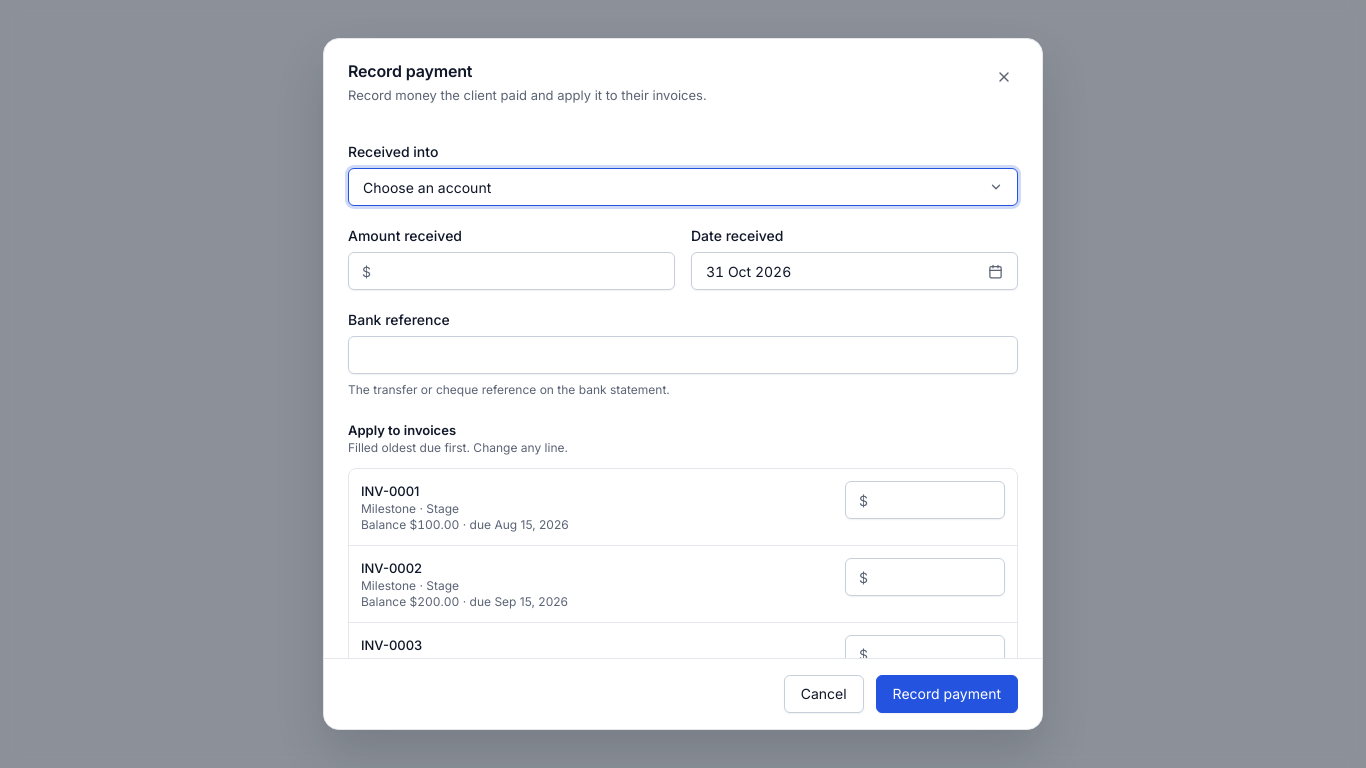
Test: RecordPaymentDialog — a Dialog that applies a receipt oldest due first › lists invoices oldest due first and prefills from the amount received
Type "250" into the field labelled "Amount received".
click(512, 271); type("250")  # box [348,252,675,290]
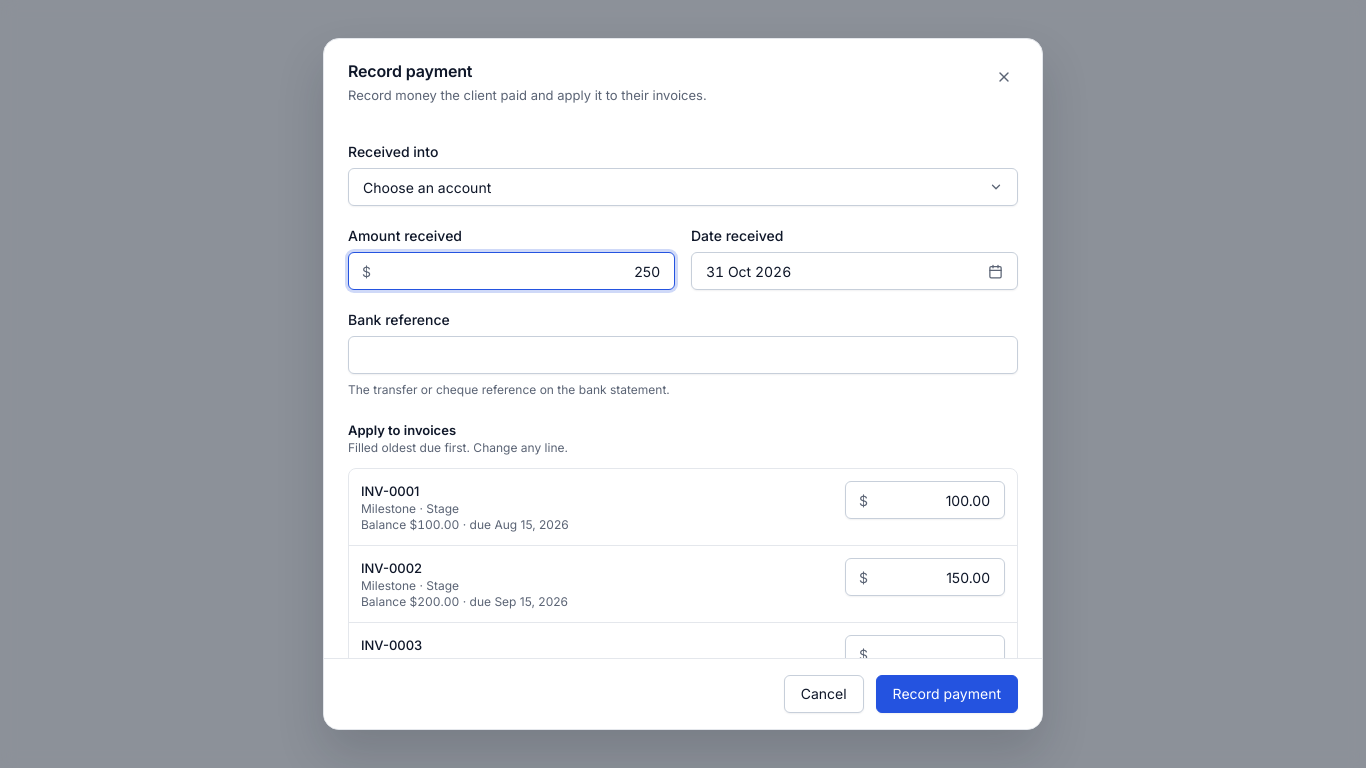
Now the field labelled "INV-0001" holds "100.00", box [845,481,1005,519]
Now the field labelled "INV-0002" holds "150.00", box [845,558,1005,596]
